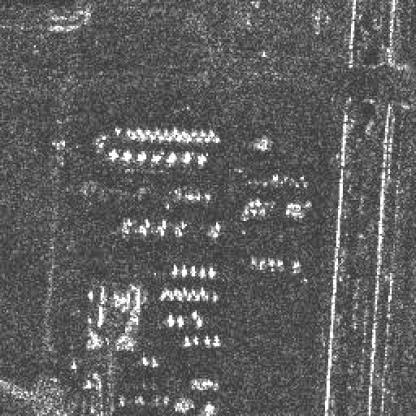airplane: (213, 325, 219, 346), (166, 312, 174, 325), (182, 336, 192, 346), (208, 266, 216, 278), (169, 265, 177, 275), (198, 268, 206, 278), (180, 265, 187, 276), (198, 286, 205, 296), (190, 266, 197, 276), (134, 127, 142, 135), (190, 309, 198, 317), (195, 318, 203, 326), (141, 128, 150, 135), (203, 335, 210, 344), (146, 134, 153, 142), (169, 128, 177, 135), (180, 286, 187, 294), (125, 128, 132, 135), (138, 133, 145, 140), (114, 127, 120, 135), (130, 132, 136, 140), (161, 128, 167, 136), (184, 135, 190, 143), (206, 130, 214, 136), (192, 336, 198, 344), (193, 136, 202, 141), (210, 136, 219, 141), (180, 130, 187, 136), (198, 130, 205, 136), (203, 135, 210, 141), (164, 135, 172, 140), (159, 291, 164, 299), (164, 288, 169, 296), (185, 292, 190, 300), (190, 288, 195, 296), (152, 130, 158, 136), (174, 135, 180, 141), (211, 294, 216, 301), (156, 135, 162, 140), (190, 130, 195, 136), (169, 291, 174, 297), (172, 288, 177, 294), (177, 293, 182, 299), (194, 294, 198, 301)
